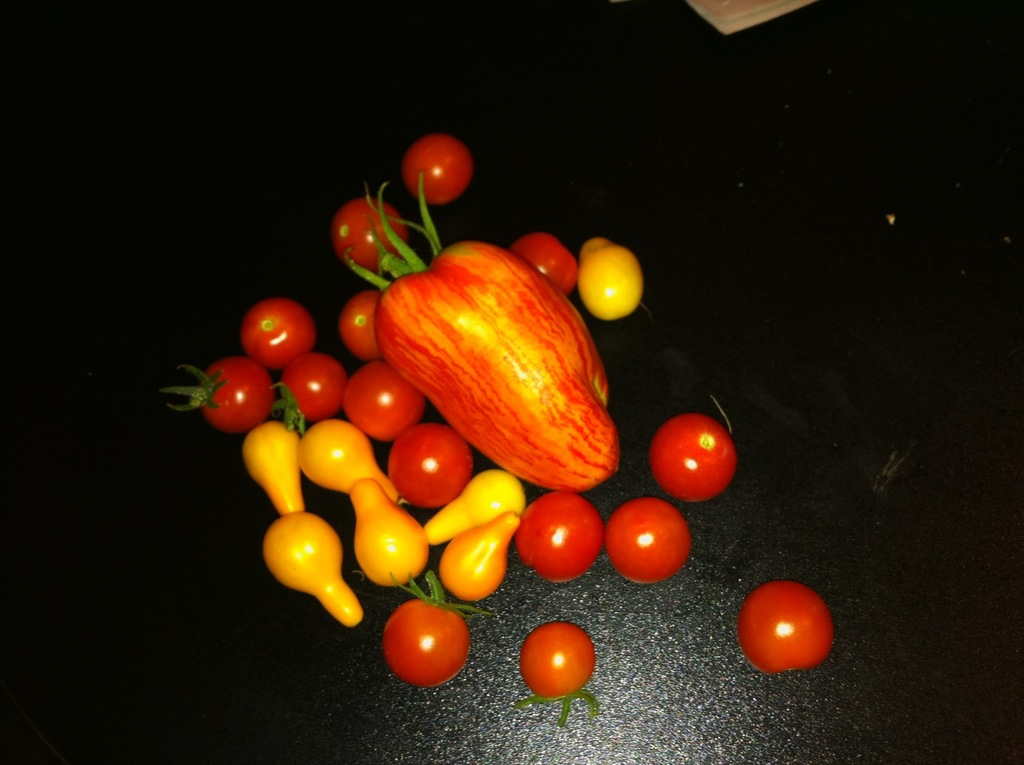Tomato: (735, 584, 833, 676), (374, 600, 476, 688), (648, 407, 740, 504), (512, 488, 594, 588), (172, 355, 272, 429), (517, 622, 592, 717), (389, 423, 472, 508), (608, 502, 691, 584), (342, 356, 427, 435), (395, 127, 477, 201), (234, 299, 315, 371), (331, 196, 405, 270), (284, 349, 349, 409)
